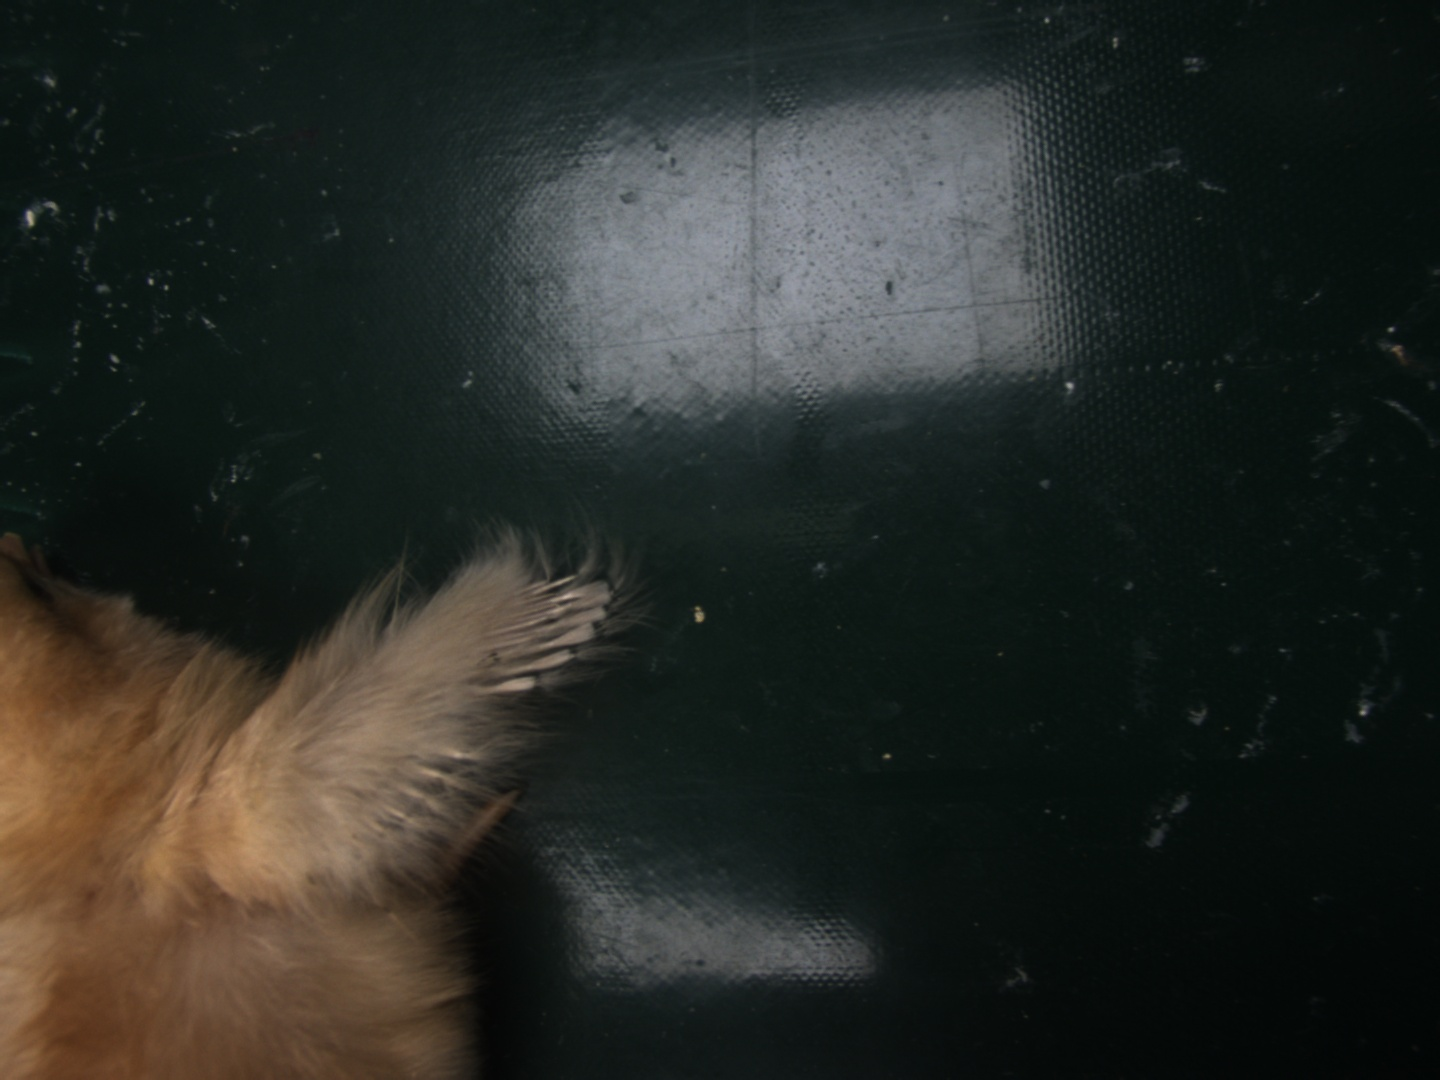female: (461, 576, 612, 697)
